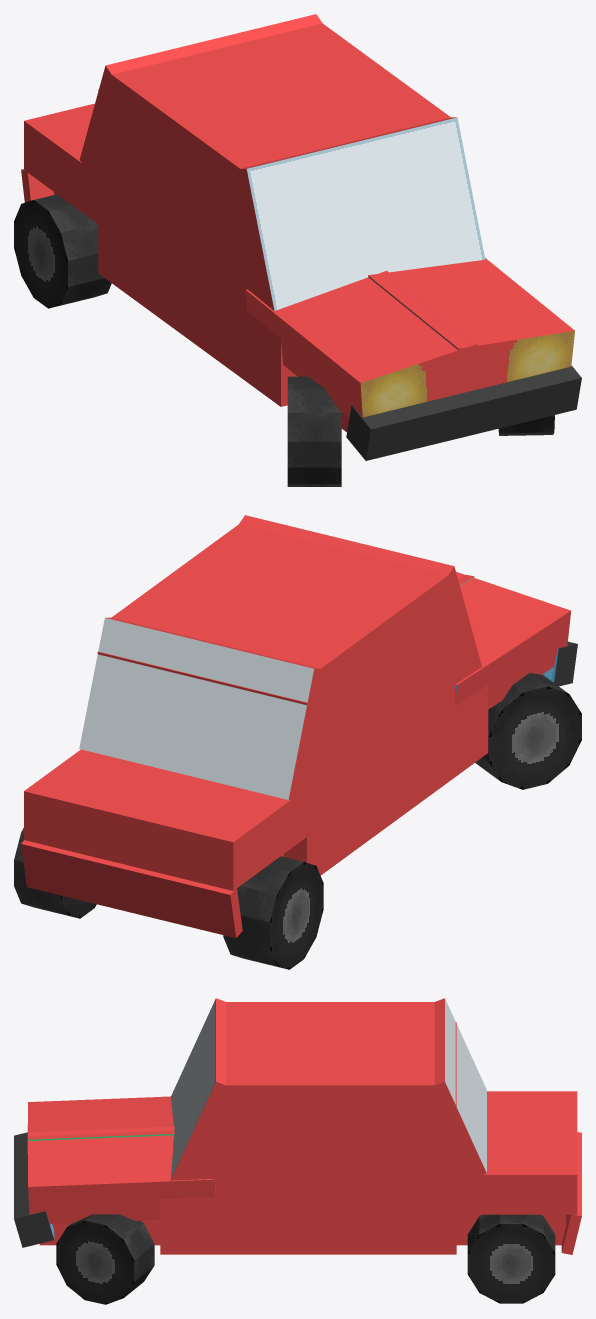
The model's file is generic_car.gltf.
3 views of the same model, one above another, from view 1: azimuth 30°, elevation 25°; view 2: azimuth 150°, elevation 25°; view 3: azimuth 270°, elevation 25° (orthographic). The views are drawn at different scales.
Visible parts, largest first — view 1: cube (×10), cylinder (×3); view 2: cube (×9), cylinder (×3); view 3: cube (×11), cylinder (×2).
Part boxes in pixels (x1=…): cube (×10): x1=21, y1=14, x2=581, y2=460; cylinder (×3): x1=14, y1=194, x2=554, y2=486; cube (×9): x1=21, y1=515, x2=577, y2=937; cylinder (×3): x1=14, y1=673, x2=581, y2=969; cube (×11): x1=14, y1=998, x2=581, y2=1254; cylinder (×2): x1=56, y1=1214, x2=555, y2=1304.
Size of the model in its own units: 0.3961 by 0.3341 by 0.8087.
1 material, 1 textured.
